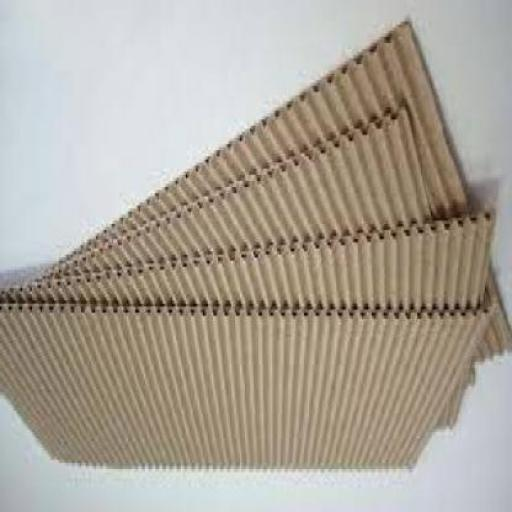cardboard: (36, 24, 510, 366), (2, 102, 482, 390), (2, 214, 500, 432), (2, 297, 498, 472)
